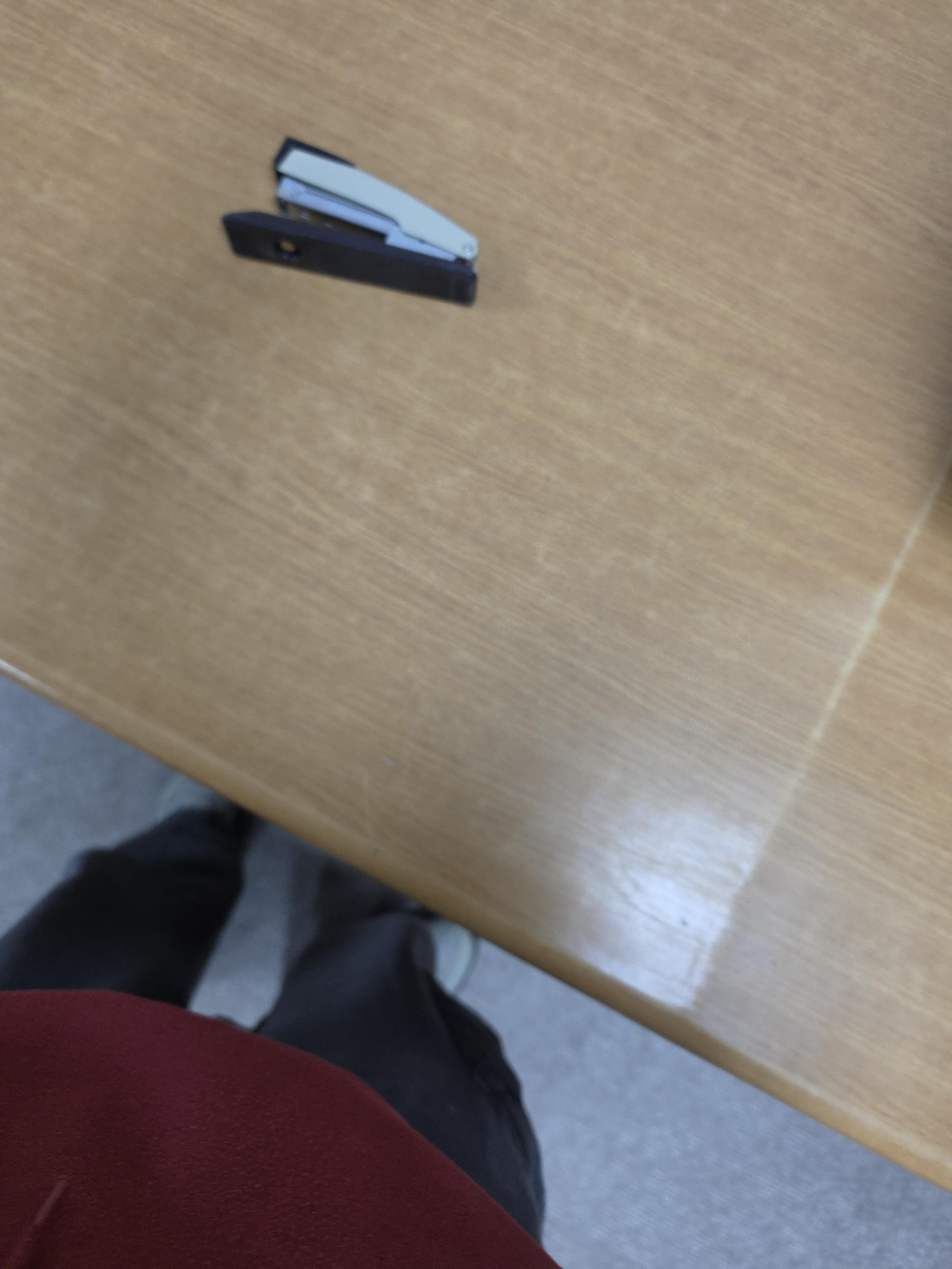stapler: (220, 136, 481, 305)
